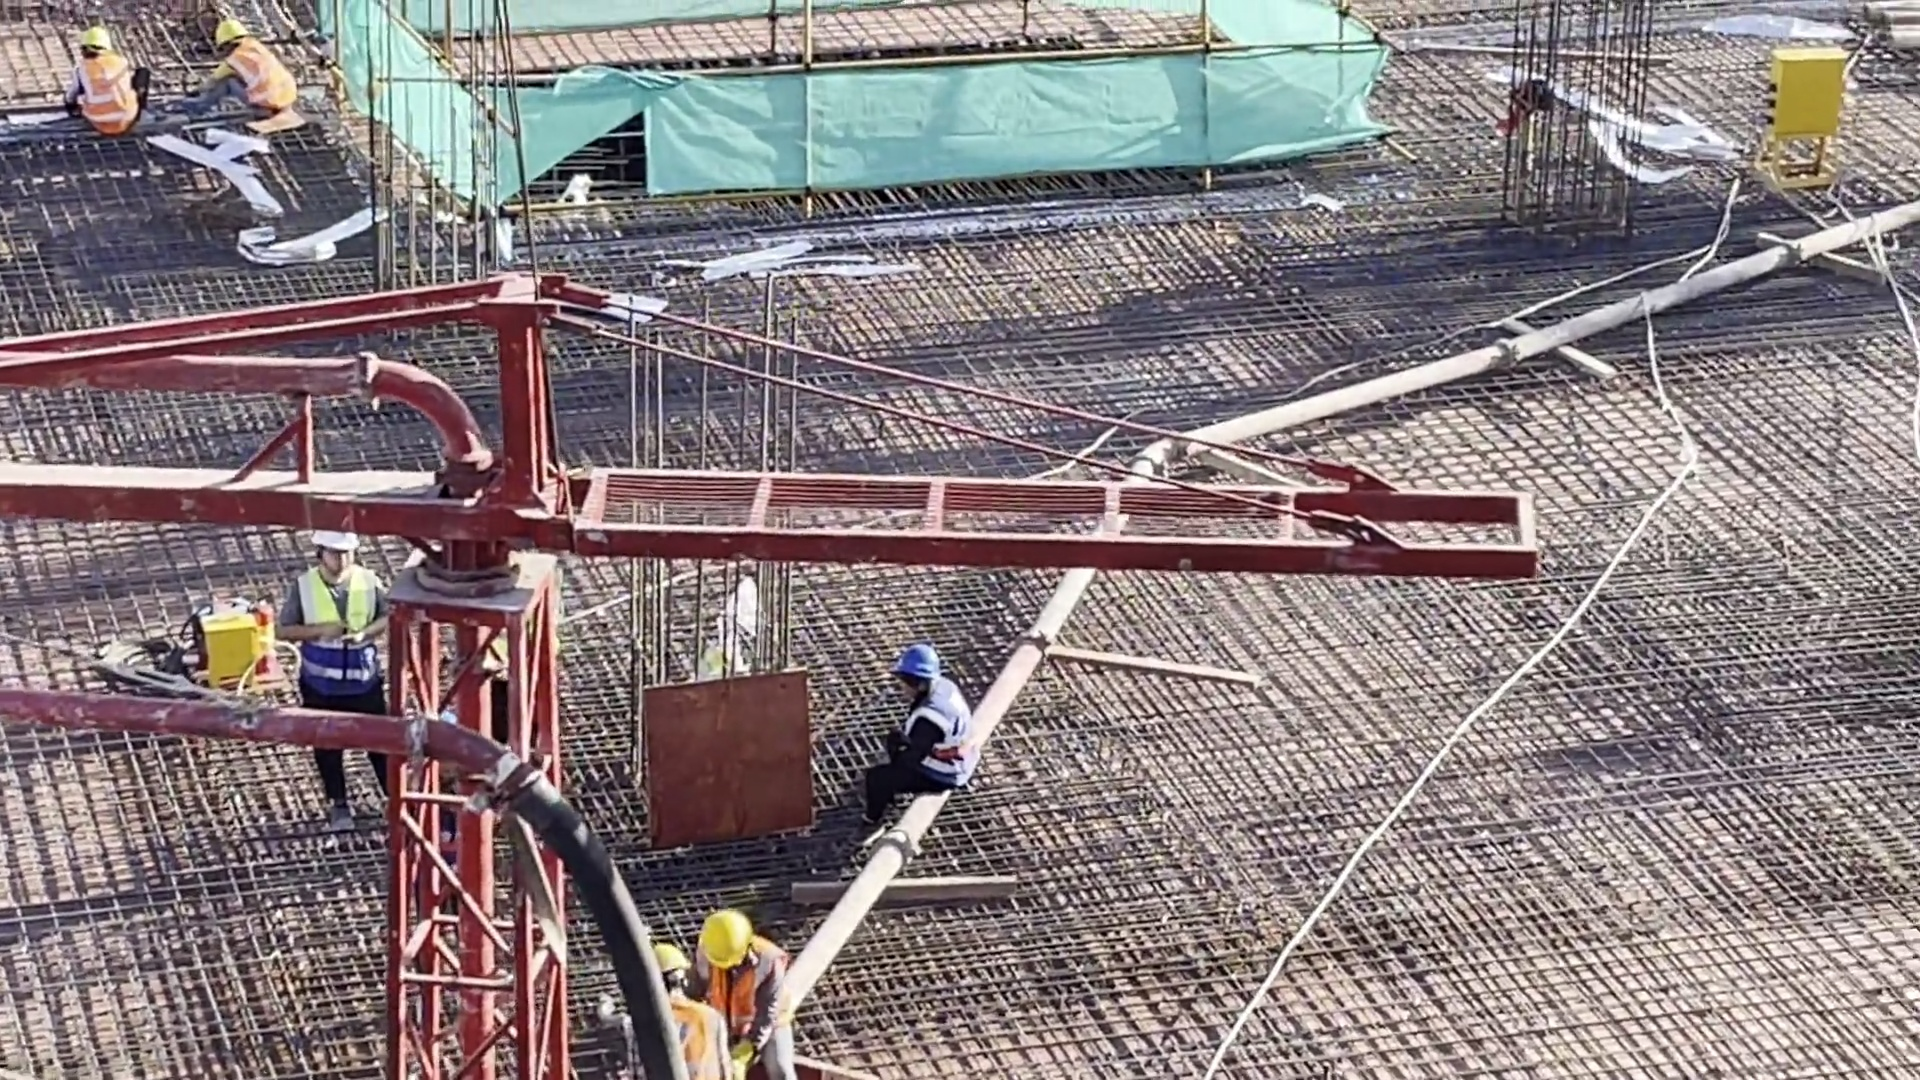helmet: (692, 897, 743, 962), (893, 639, 942, 682), (70, 27, 116, 51), (316, 529, 358, 555), (217, 13, 254, 42), (655, 946, 681, 985)
person: (275, 528, 397, 827), (854, 653, 978, 838), (678, 906, 804, 1080), (166, 11, 304, 119), (621, 943, 725, 1080), (60, 23, 155, 148)
vest: (297, 573, 380, 710), (700, 952, 785, 1044), (220, 46, 296, 128), (643, 1000, 717, 1080), (915, 692, 970, 785), (77, 51, 136, 136)
